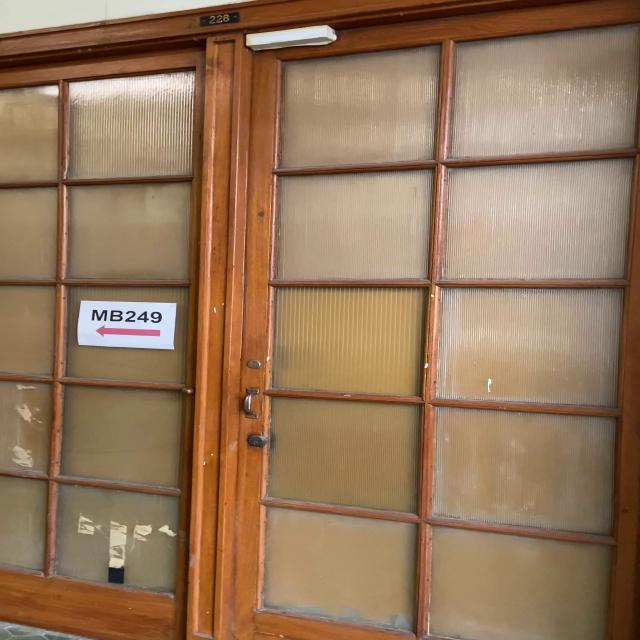room228: (198, 11, 241, 27)
